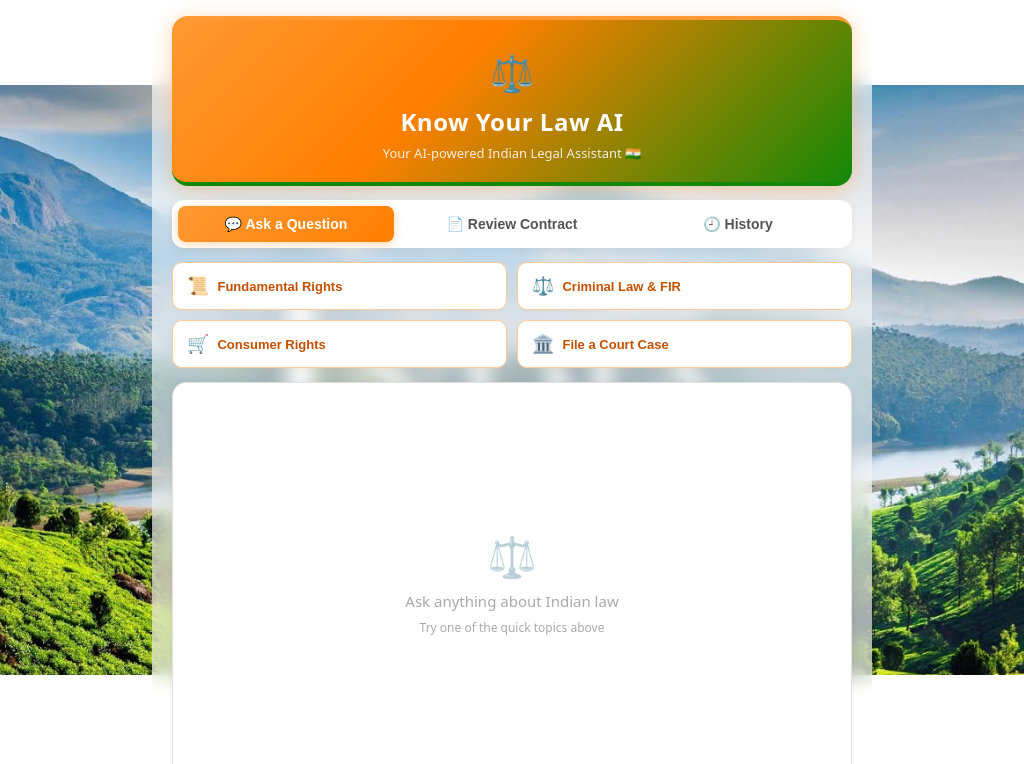
Scenario: clicking quick topic fills input
The image size is (1024, 764).
Click the text "Fundamental Rights": (280, 286) [218,278,342,294]
(page scrolled)
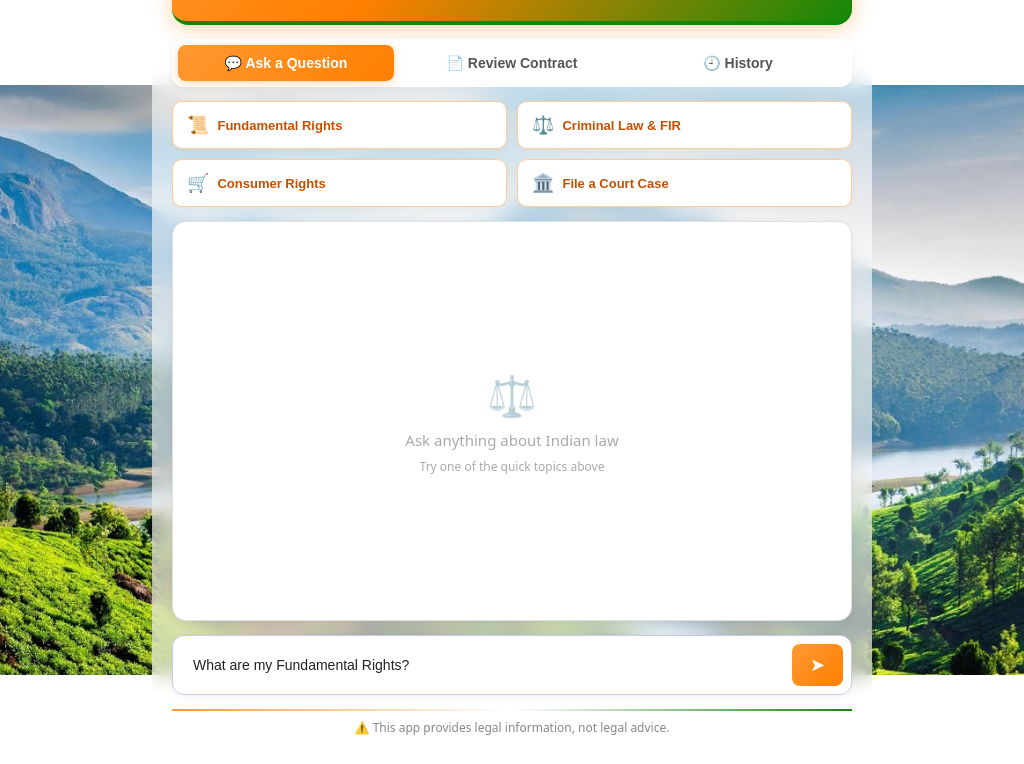
Expected: the field with placeholder "Ask about Indian law..." holds "What are my Fundamental Rights?", [181,644,784,686]
